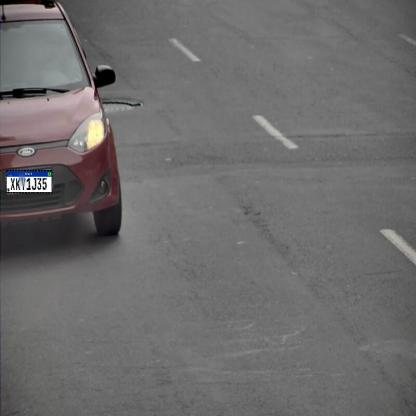PlacaM: (6, 170, 52, 193)
